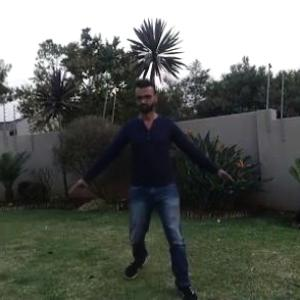land: (61, 72, 231, 290)
